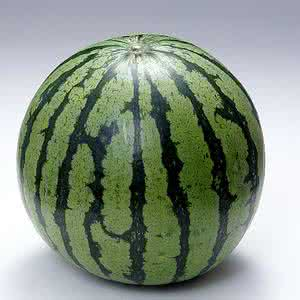watermelon: (17, 30, 266, 285)
